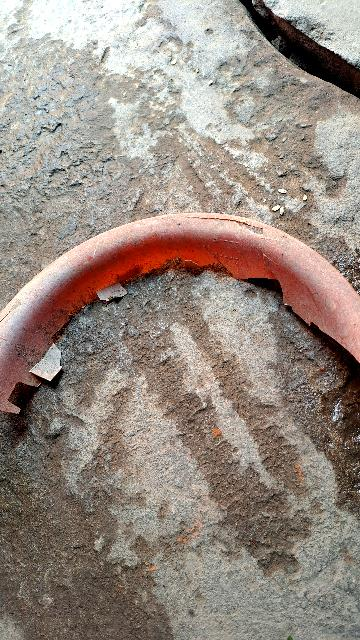hardplastic: (0, 204, 360, 429)
